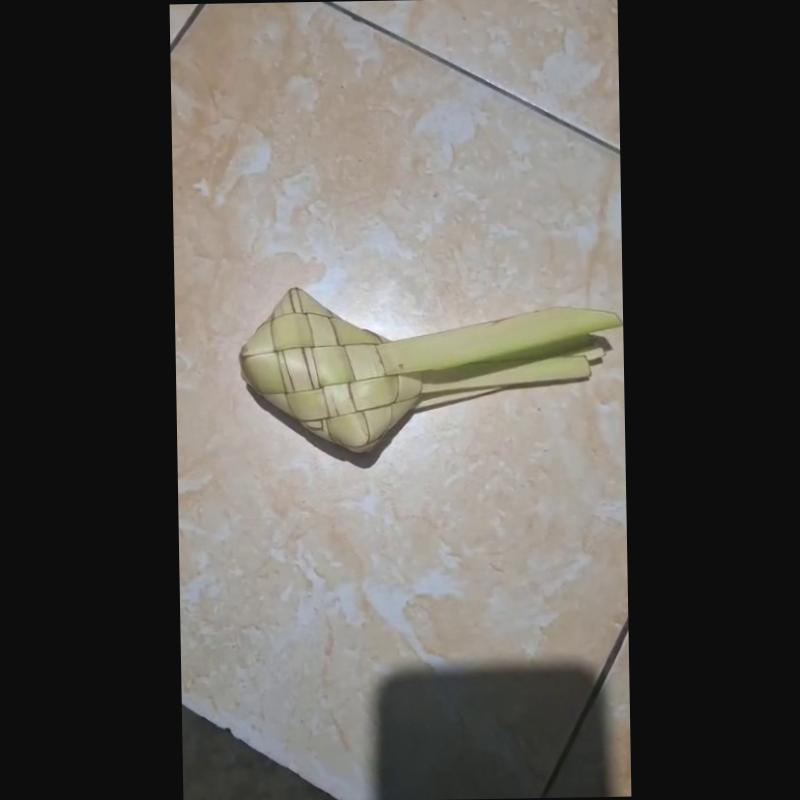Tipat Bantal: (229, 285, 613, 467)
